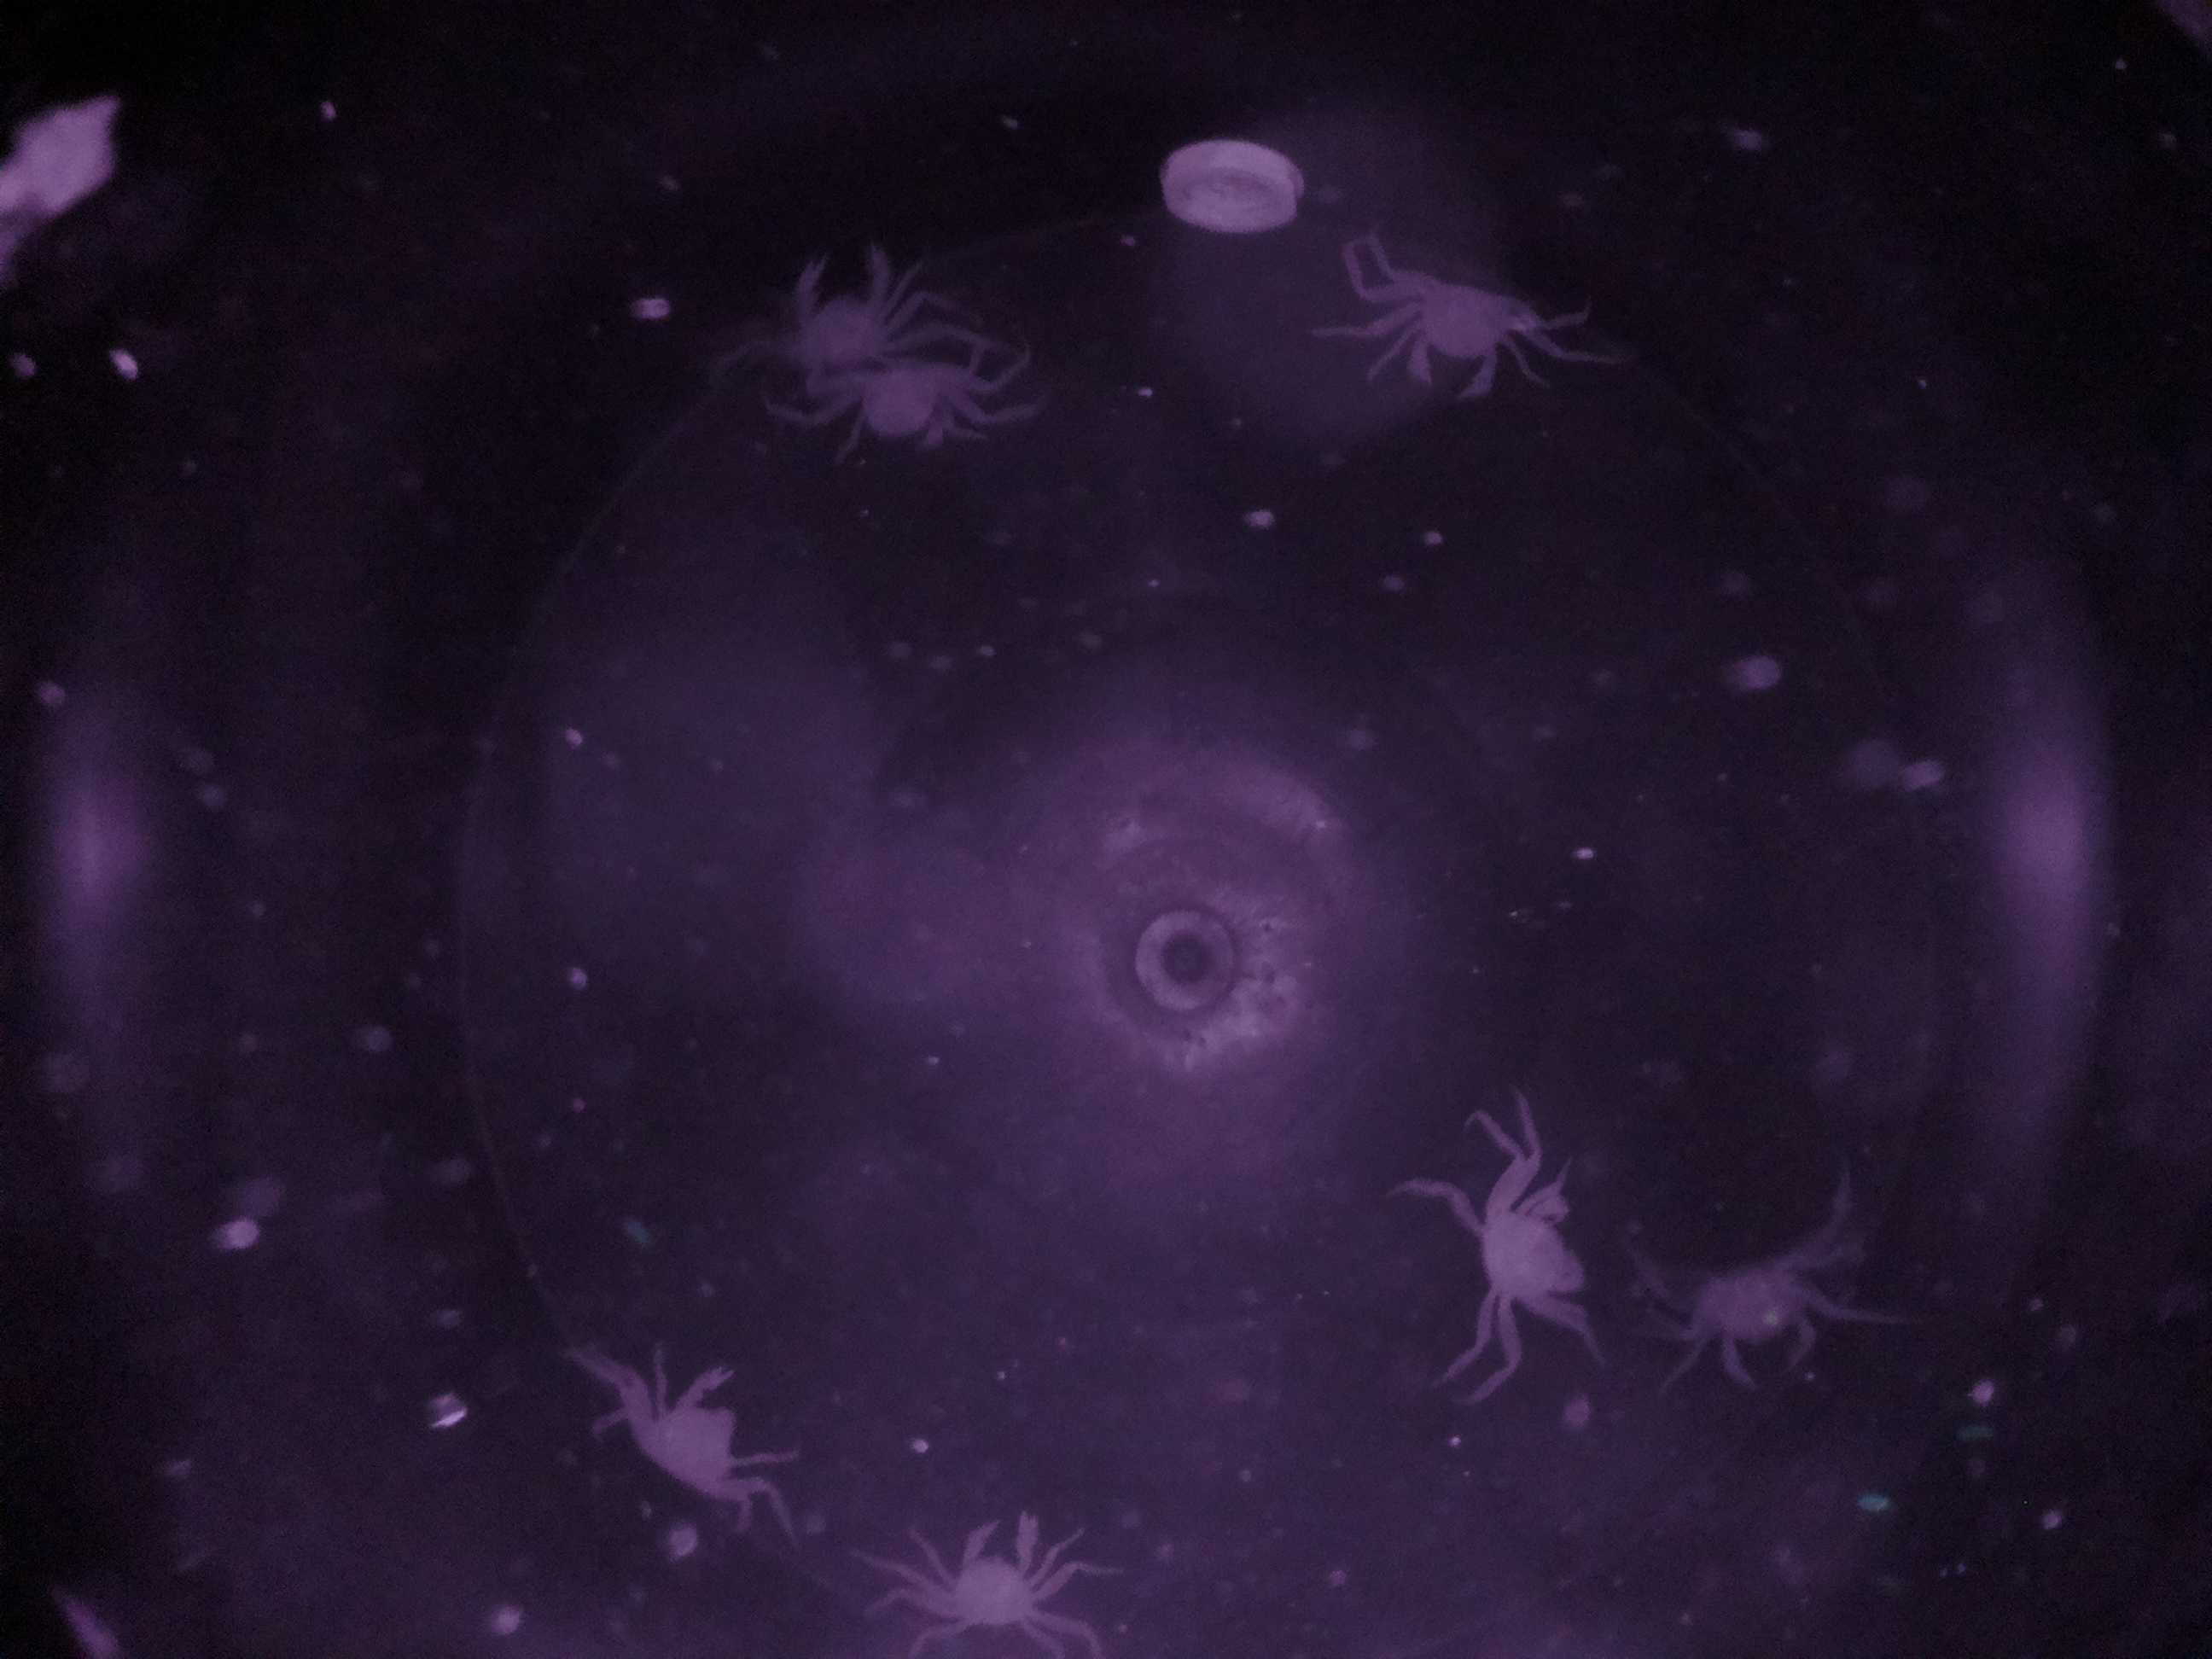Crab: (1453, 1127, 1615, 1337), (610, 1333, 775, 1537), (1662, 1227, 1857, 1394), (1345, 244, 1545, 406), (907, 1495, 1092, 1638)
